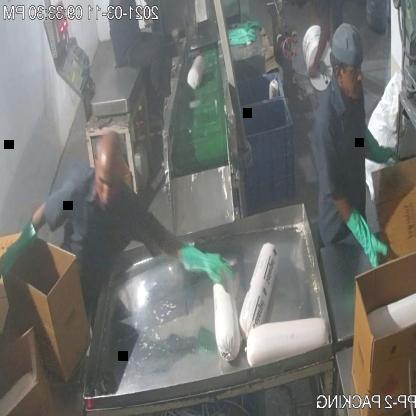glove: (339, 210, 391, 282), (0, 216, 37, 287), (175, 238, 227, 288)
